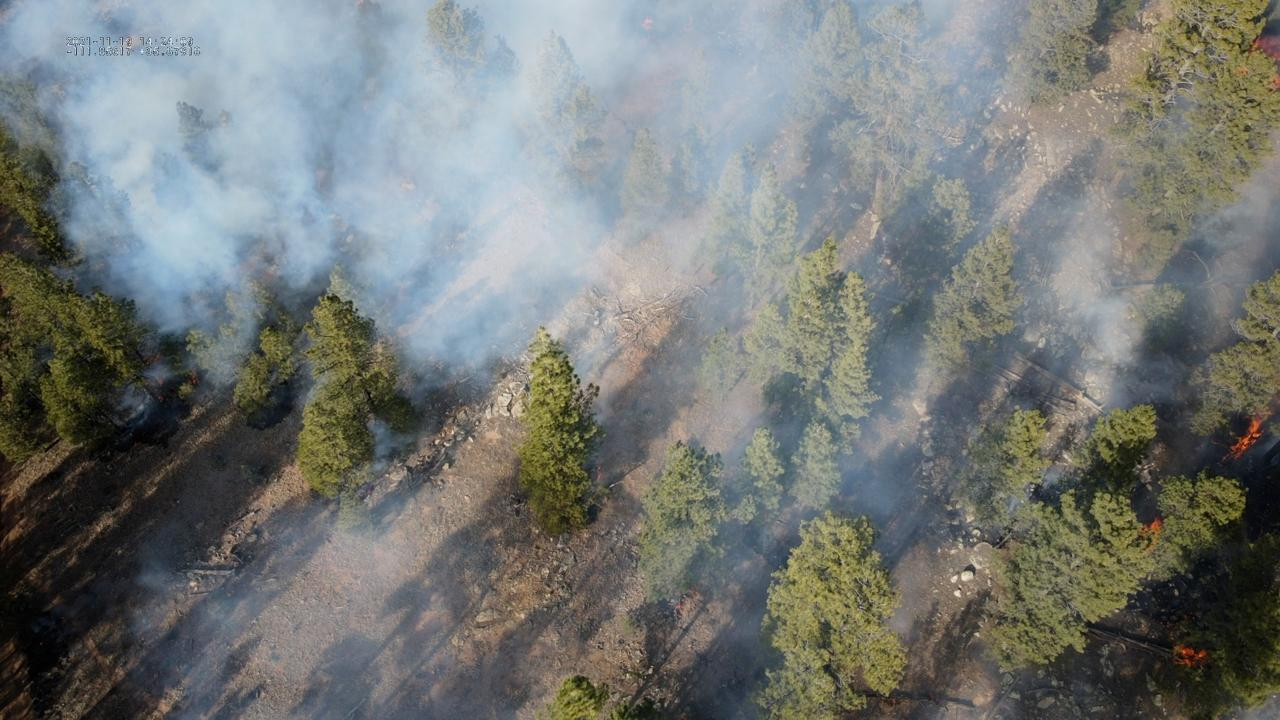fire: (1229, 370, 1280, 461), (1228, 34, 1280, 95), (1129, 519, 1166, 560), (1178, 648, 1206, 670), (144, 353, 161, 365), (192, 374, 196, 386)
smoke: (2, 0, 1162, 598), (110, 501, 514, 720), (1166, 130, 1280, 323)
